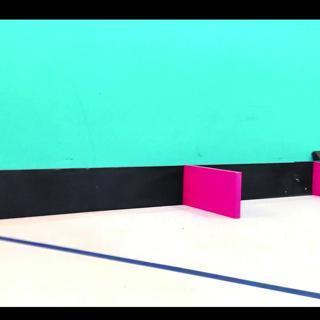xparking: (187, 174, 238, 210), (315, 170, 319, 194)
